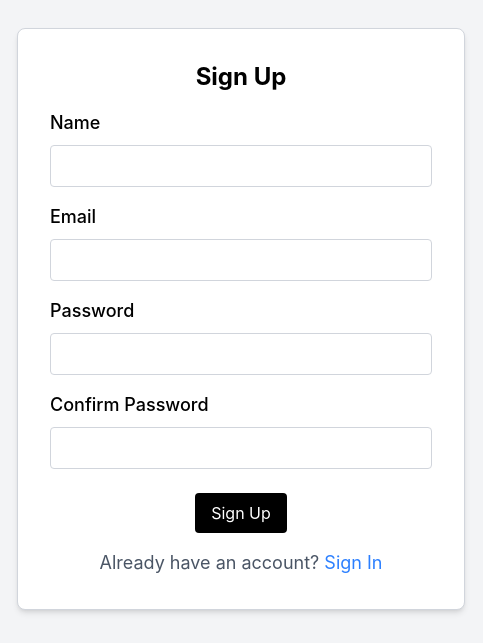
Sign Up Page › ShouldShowErrorForInvalidEmail
Type "priyansh" into the field labelled "Email". click: point(241, 260)
box: [50, 239, 432, 281]
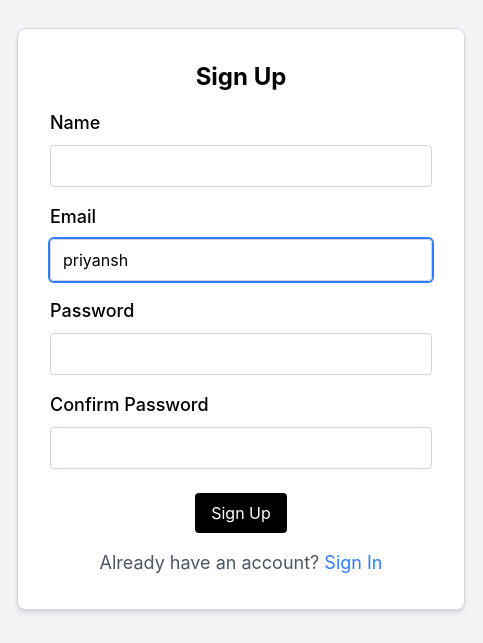
Click the button "Sign Up". click: point(241, 513)
box: [195, 493, 287, 533]
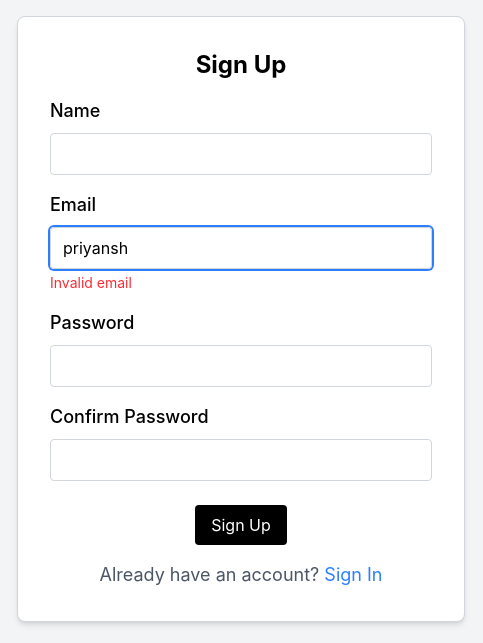
Check: the text "Invalid email" is shown, box [50, 274, 132, 291]
